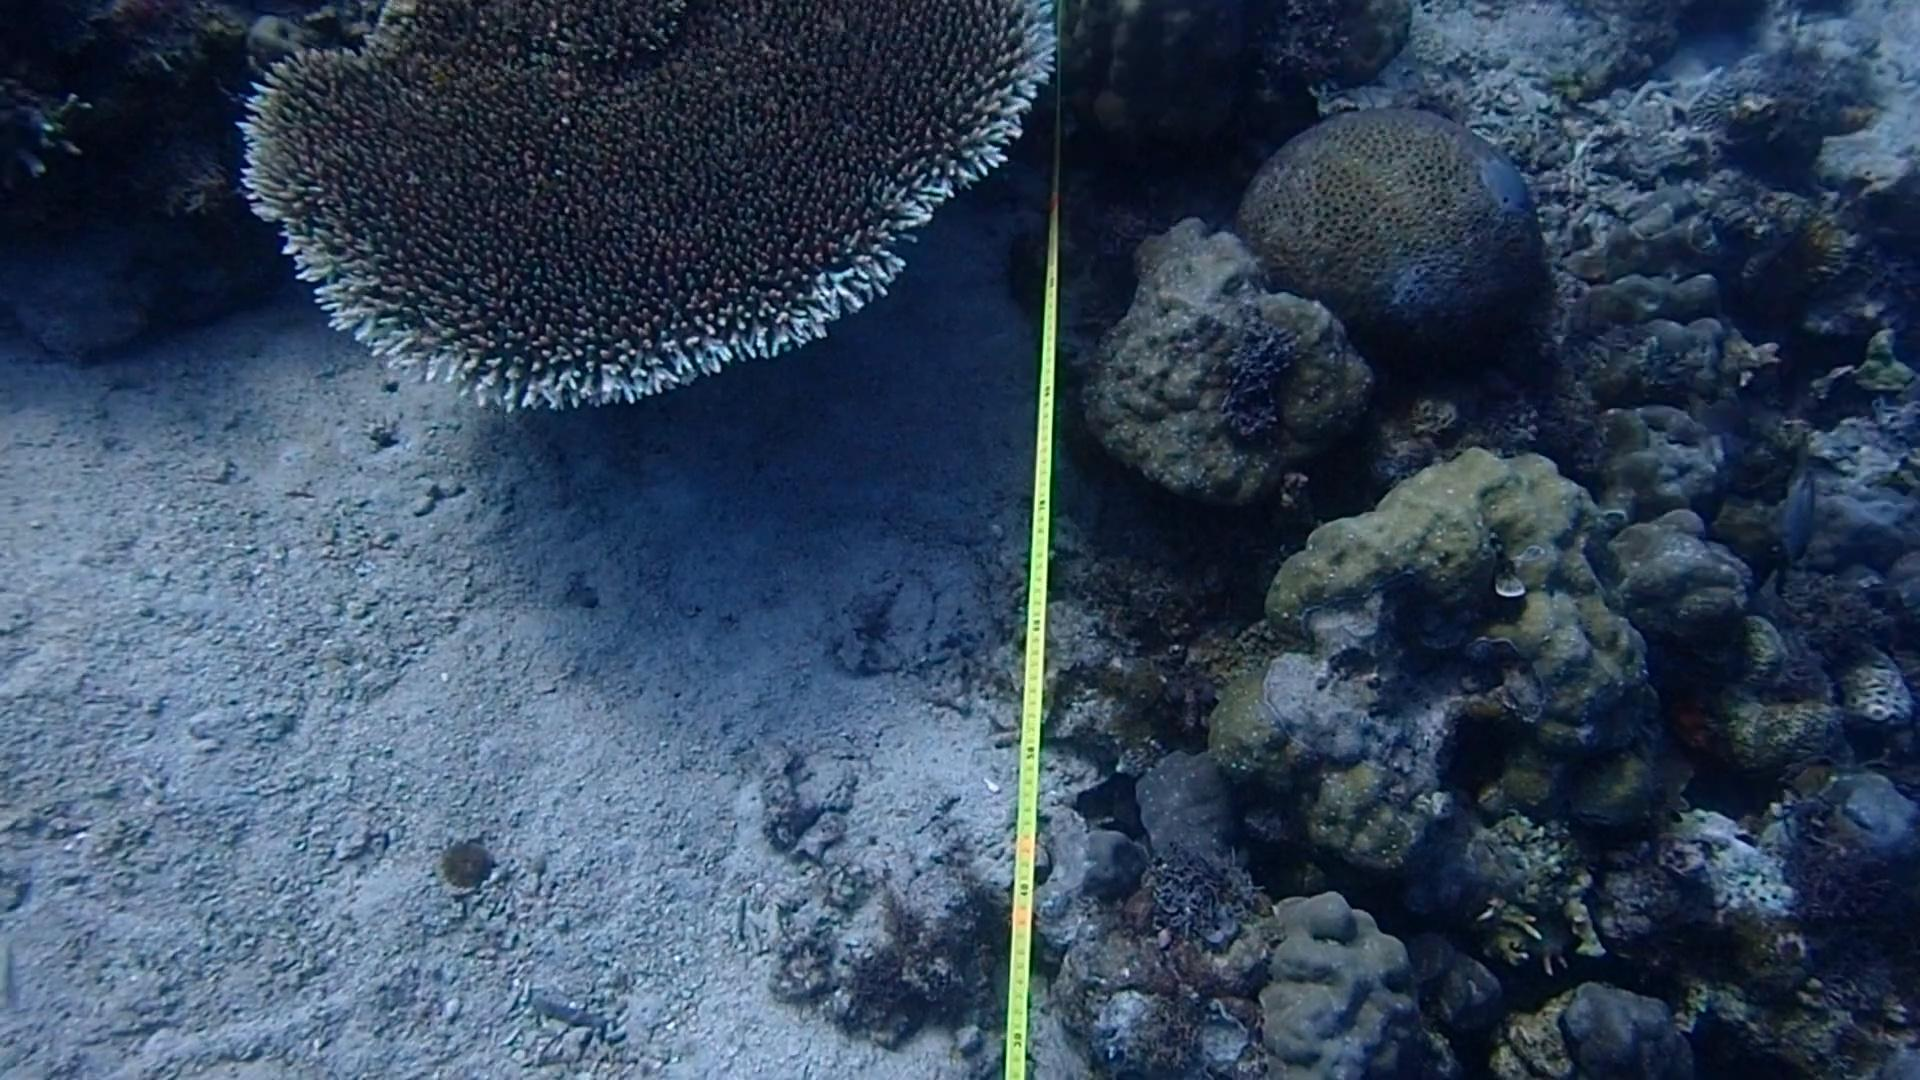Light Fish: (1445, 125, 1542, 232), (1751, 448, 1824, 572)
